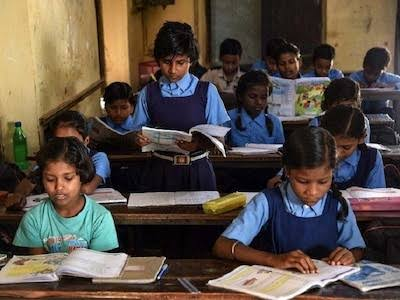student: (281, 131, 337, 207), (32, 143, 94, 204), (151, 25, 199, 82), (314, 106, 367, 157), (48, 111, 96, 152), (231, 70, 272, 114), (99, 85, 139, 124), (325, 74, 366, 112), (215, 38, 247, 74), (363, 45, 390, 83), (275, 46, 305, 78), (310, 45, 335, 81)
